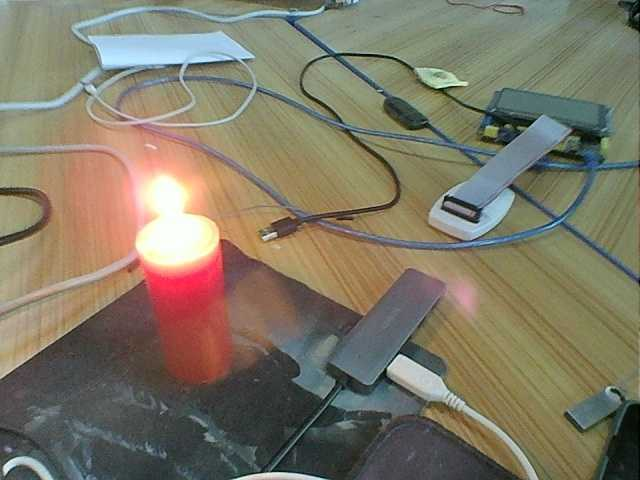candle: (133, 262, 248, 383)
fire: (130, 175, 212, 259)
